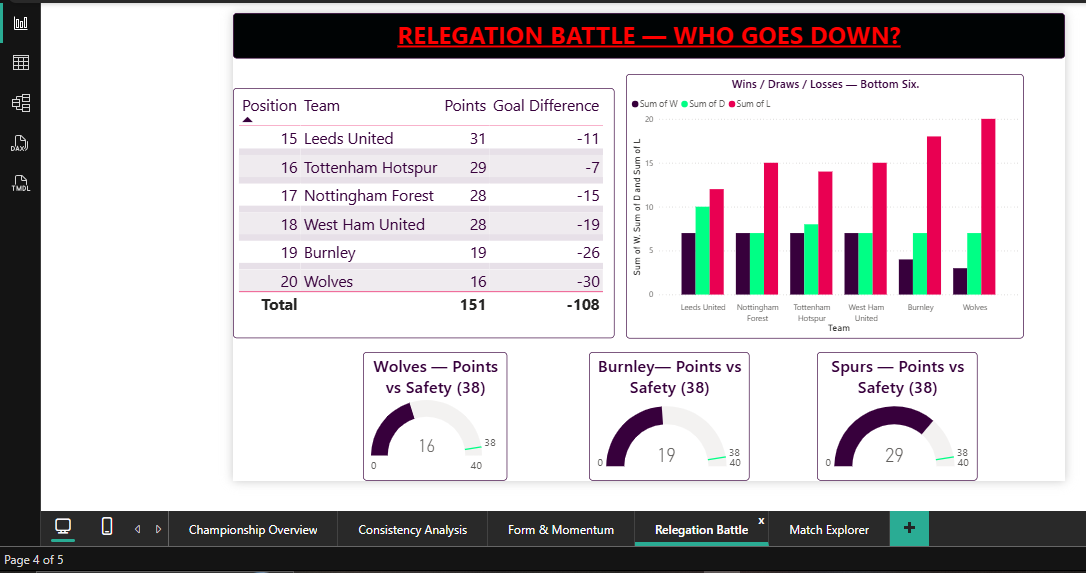

This screenshot's page, from the dashboard's own definition file:
{"tool":"powerbi","page":{"name":"Relegation Battle","canvas":[1280,720],"ordinal":3},"visuals":[{"type":"tableEx","fields":{"Values":["Standings.Position","Standings.Team","Sum(Standings.Pts)","Sum(Standings.GD)"]},"box":[0,115,586.7,385],"z":0},{"type":"clusteredColumnChart","title":"Wins / Draws / Losses — Bottom Six.","fields":{"Category":["Standings.Team"],"Y":["Sum(Standings.W)","Sum(Standings.D)","Sum(Standings.L)"]},"box":[605,93.3,611.7,406.7],"z":1000},{"type":"gauge","title":"Wolves — Points vs Safety (38)","fields":{"Y":["Sum(Standings.Pts)"]},"box":[200,521.7,221.7,198.3],"z":2000},{"type":"gauge","title":"Burnley— Points vs Safety (38)","fields":{"Y":["Sum(Standings.Pts)"]},"box":[548.3,521.7,246.7,198.3],"z":3000},{"type":"gauge","title":"Spurs — Points vs Safety (38)","fields":{"Y":["Sum(Standings.Pts)"]},"box":[898.3,521.7,246.7,198.3],"z":4000},{"type":"textbox","box":[0,0,1280,70],"z":5000}]}

Visuals, with their boxes on the page's 1280x720 design canvas (x1, y1, x2, y2). These are canvas units, not pixel positions in the 1086x573 screenshot, which may show the page scaled, cropped or inside an application window:
tableEx - Standings.Position x Standings.Team: (left=0, top=115, right=587, bottom=500)
"Wins / Draws / Losses — Bottom Six." clusteredColumnChart: (left=605, top=93, right=1217, bottom=500)
"Wolves — Points vs Safety (38)" gauge: (left=200, top=522, right=422, bottom=720)
"Burnley— Points vs Safety (38)" gauge: (left=548, top=522, right=795, bottom=720)
"Spurs — Points vs Safety (38)" gauge: (left=898, top=522, right=1145, bottom=720)
textbox: (left=0, top=0, right=1280, bottom=70)
